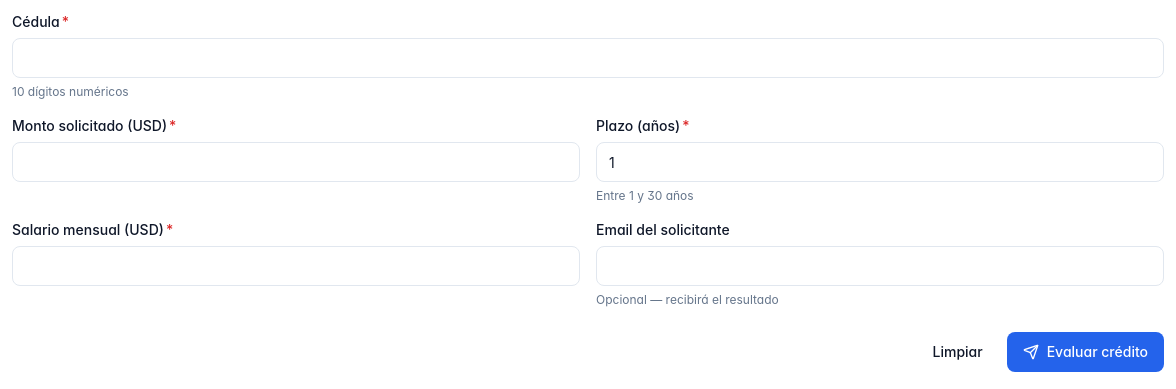
Test: CreditEvaluationForm › valida en cliente con Zod (cédula inválida)
In the field labelled "Cédula*": (588, 58) [12,38,1164,78], type "123"
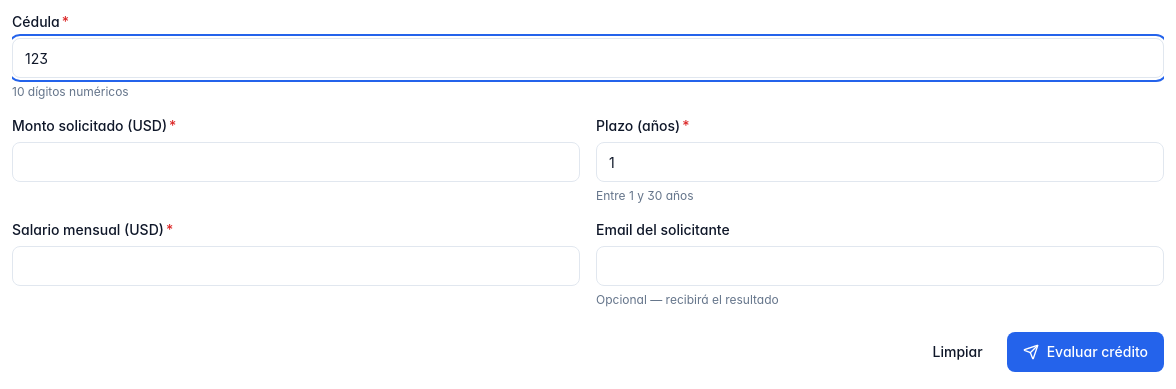
Press Tab
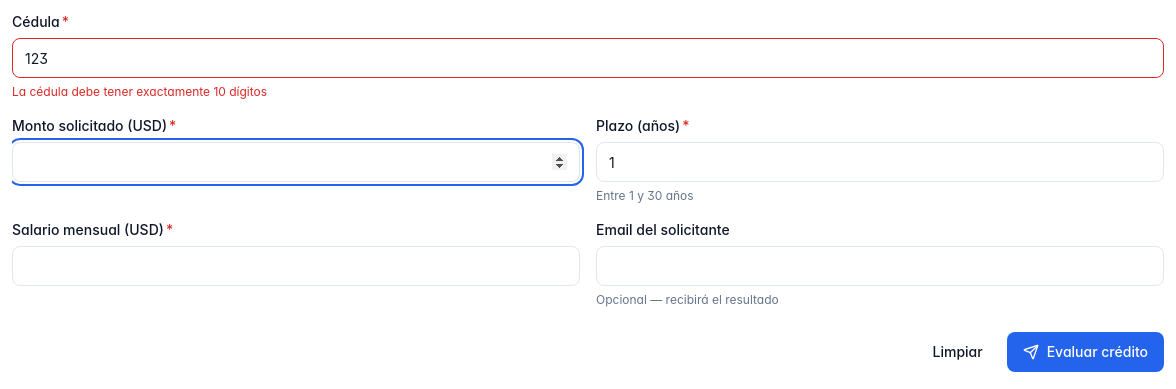
Now the text "La cédula debe tener exactamente 10 dígitos" is shown, box [12,84,267,99]
